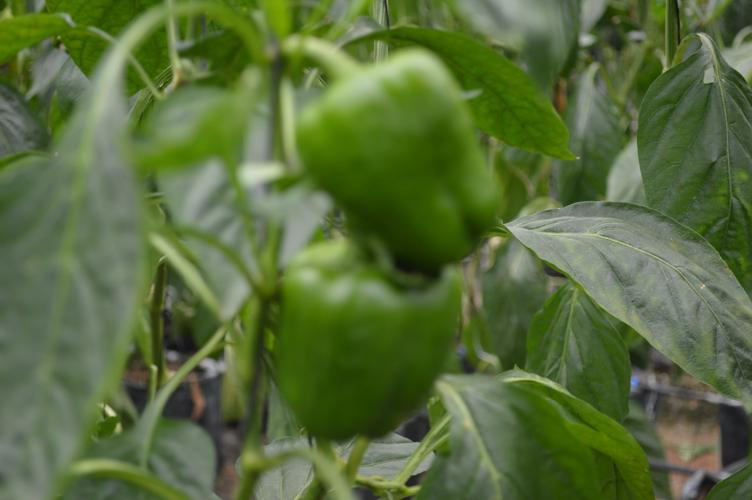BellPepper: (297, 49, 498, 261), (276, 257, 454, 436)
